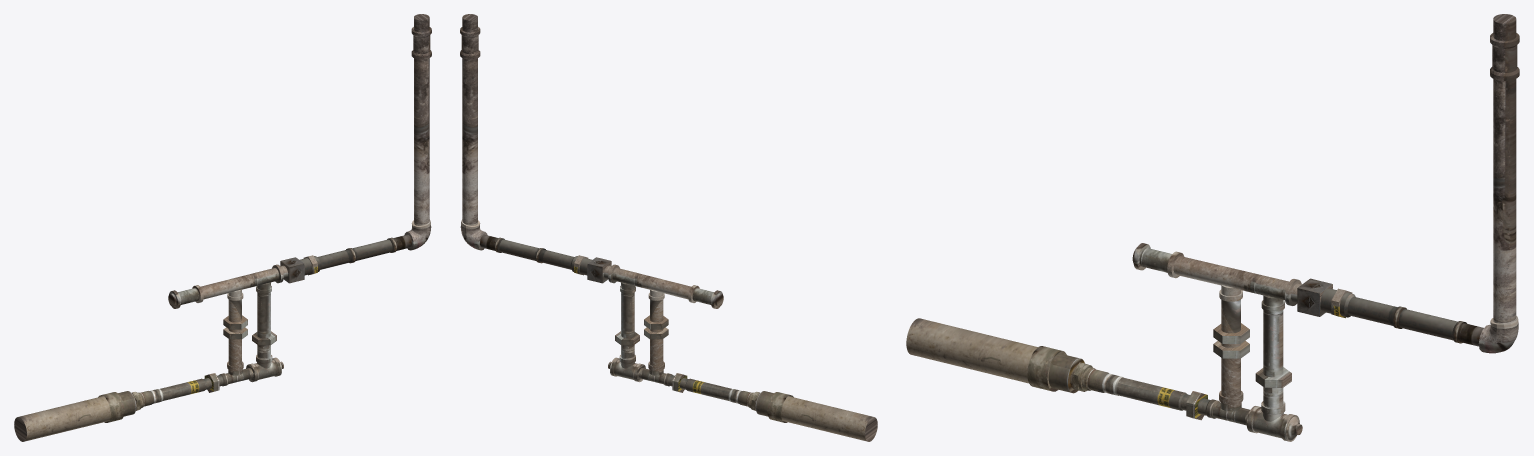
The model's file is MEDIUM S. METAL 2.fbx.
3 views of the same model, side by side, from view 1: azimuth 30°, elevation 25°; view 2: azimuth 150°, elevation 25°; view 3: azimuth 330°, elevation 25° (orthographic). The views are drawn at different scales.
Parts seen in each view (by area): view 1: MEDIUM S. METAL 2.001; view 2: MEDIUM S. METAL 2.001; view 3: MEDIUM S. METAL 2.001.
Boxes of the visible parts, x1,y1,x2,y2 form: MEDIUM S. METAL 2.001: (14,14,431,441); MEDIUM S. METAL 2.001: (460,14,877,441); MEDIUM S. METAL 2.001: (906,14,1519,441).
Size of the model in its own units: 16.3 by 12.43 by 0.9854.
